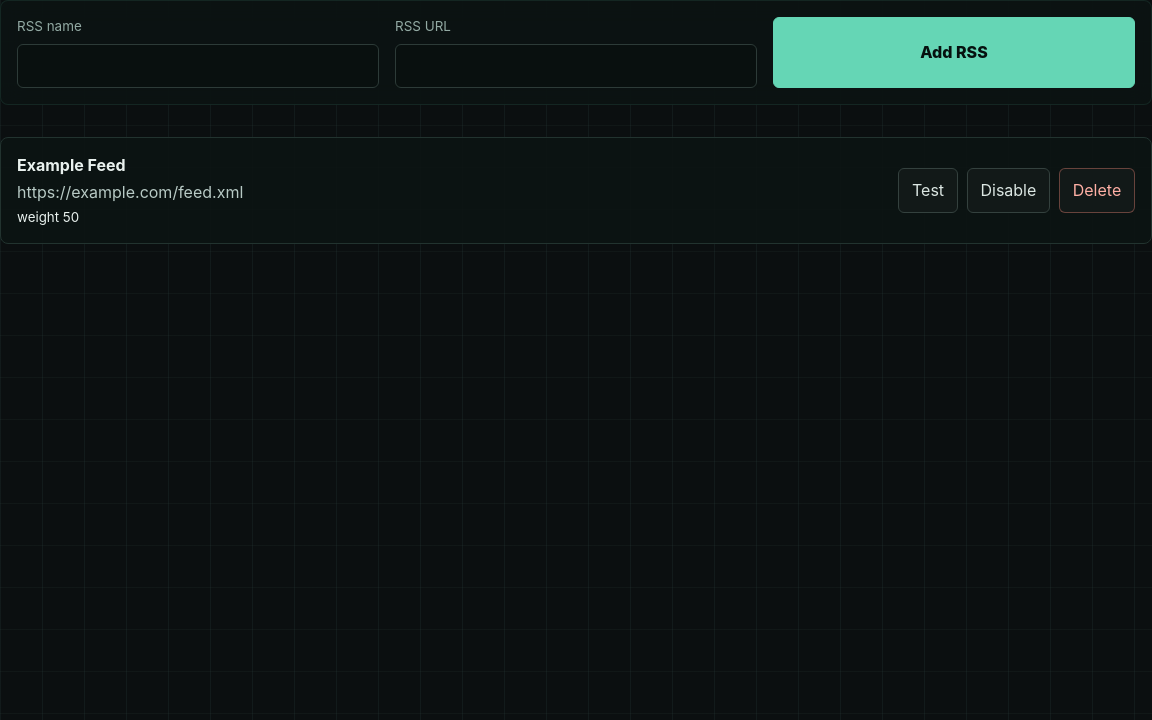
Test: SourcesPage › does not delete a source when confirmation is canceled
Click the button "Delete".
click(1097, 190)  # box 1059,168 -> 1135,213
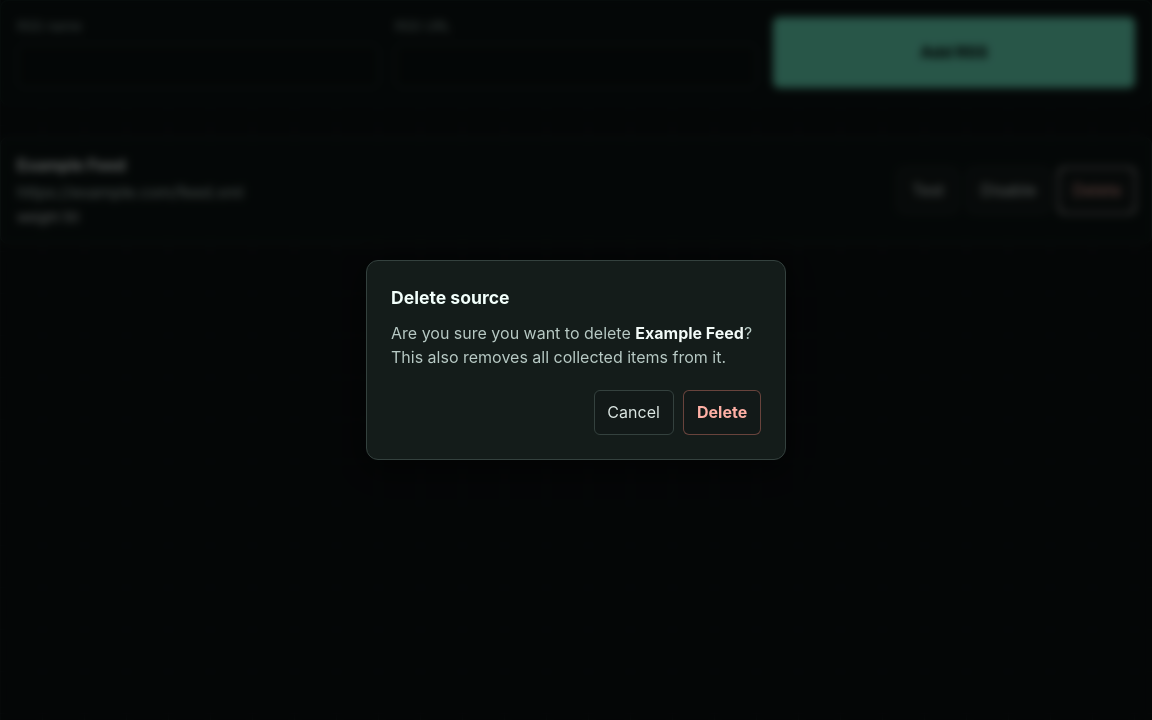
Now the text "Are you sure you want to delete" is shown, box 391,323 -> 635,343
Click the button "Cancel".
click(634, 413)  # box 594,390 -> 674,435
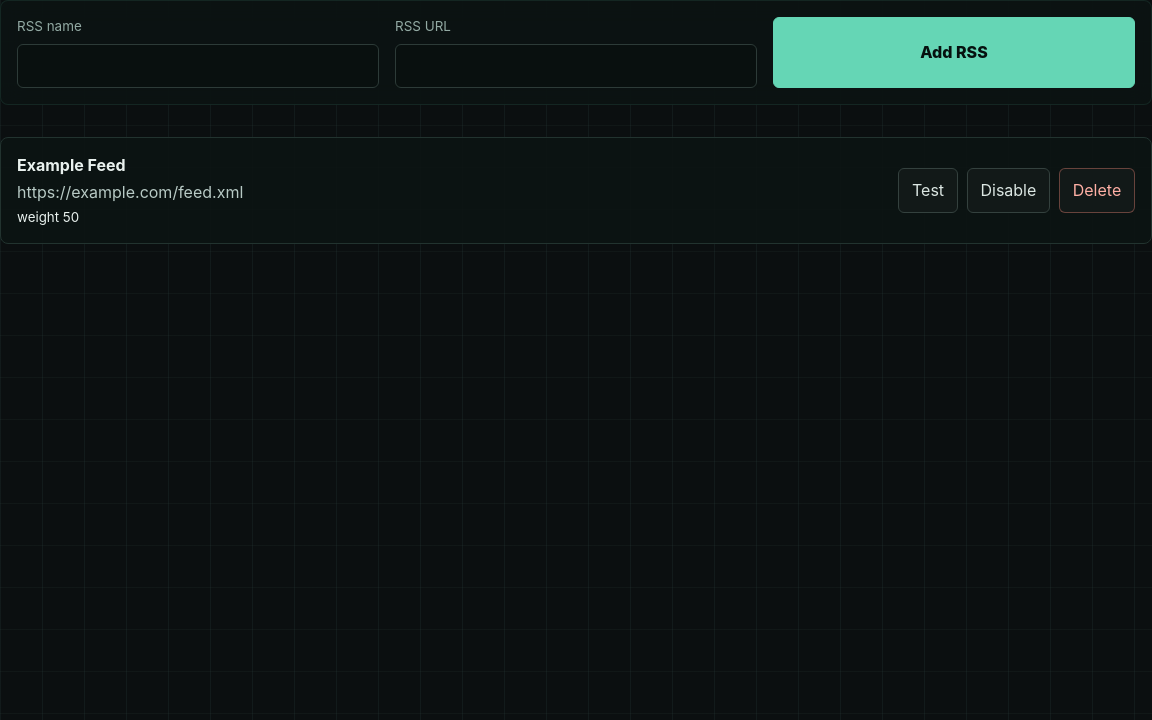
Now the text "Are you sure you want to delete" is gone
